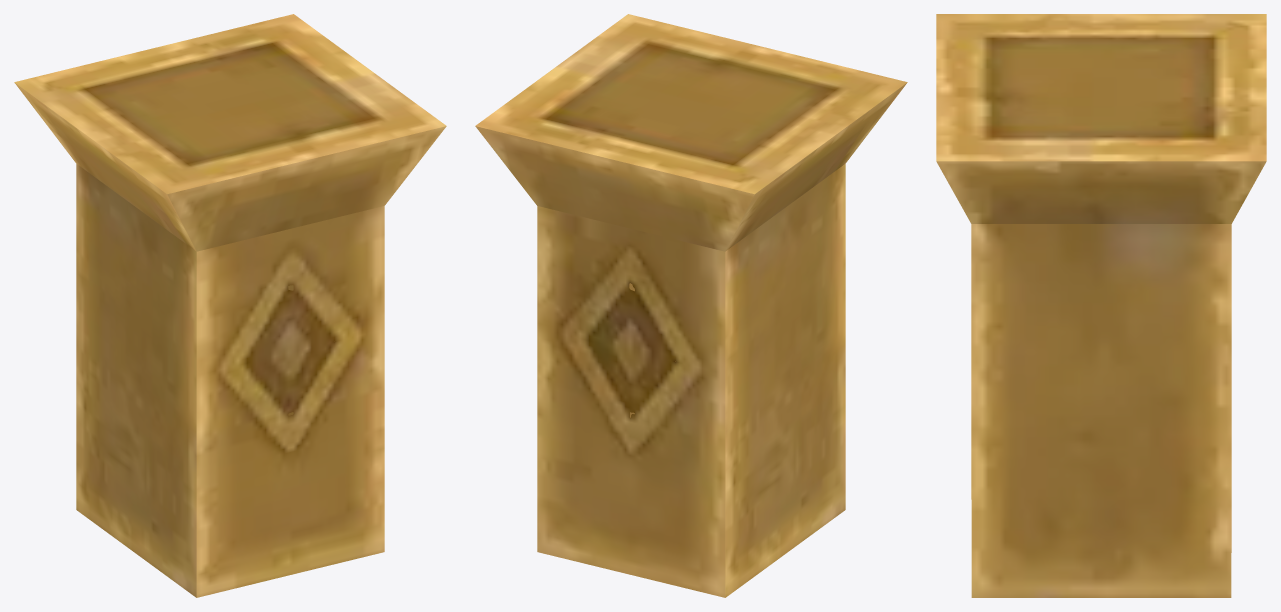
The picture shows the model from 3 angles, left to right: view 1: azimuth 30°, elevation 25°; view 2: azimuth 150°, elevation 25°; view 3: azimuth 270°, elevation 25°; orthographic projection. The views are drawn at different scales.
Parts seen in each view (by area): view 1: SM_Deposit_Point_02v3_LOD0; view 2: SM_Deposit_Point_02v3_LOD0; view 3: SM_Deposit_Point_02v3_LOD0.
Part boxes in pixels (x1,y1,x2,y2): SM_Deposit_Point_02v3_LOD0: (14, 14, 446, 597); SM_Deposit_Point_02v3_LOD0: (475, 14, 907, 597); SM_Deposit_Point_02v3_LOD0: (936, 14, 1266, 597).
Size of the model in its own units: 0.2764 by 0.4031 by 0.262.
